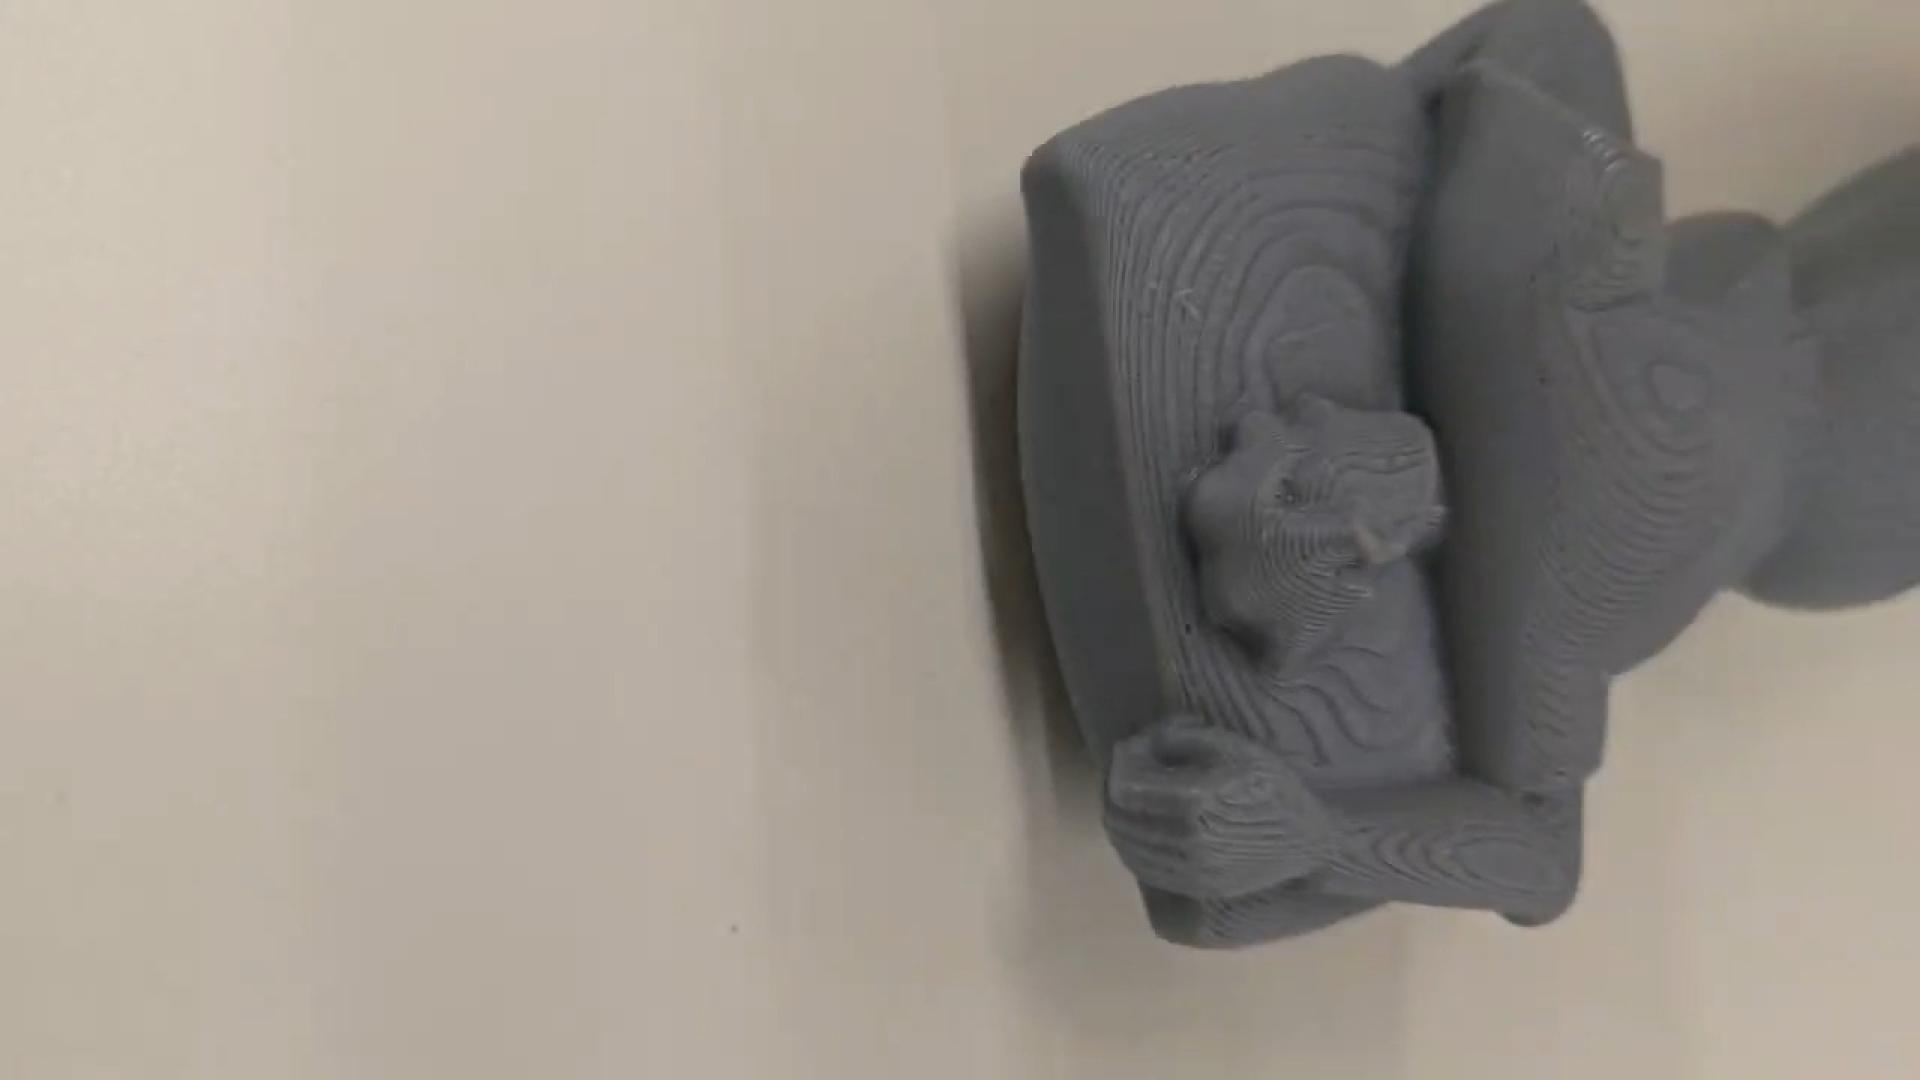Bad-style: (1007, 0, 1920, 957)
